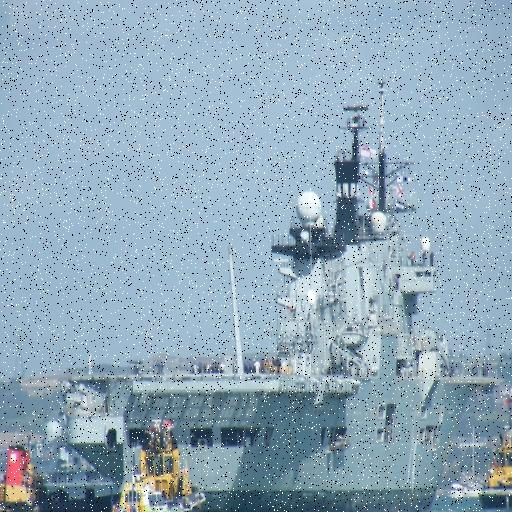Portanaves: (41, 50, 507, 512)
